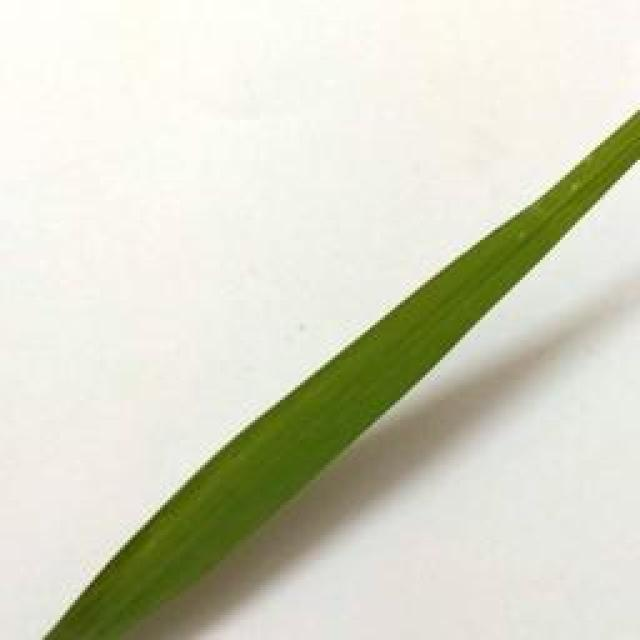Healthy-Plant: (38, 103, 640, 640)
